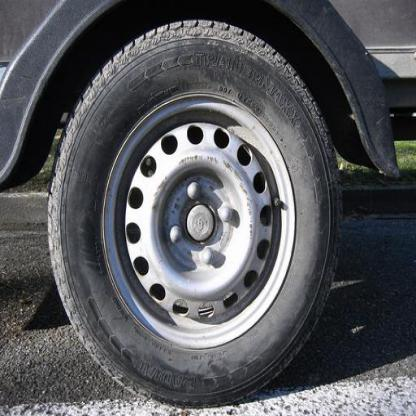Tire: (44, 16, 343, 409)
